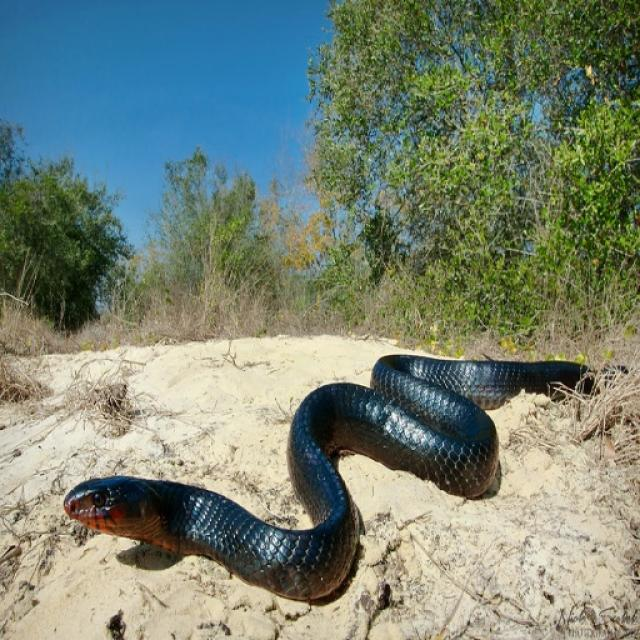snake: (50, 346, 612, 613)
